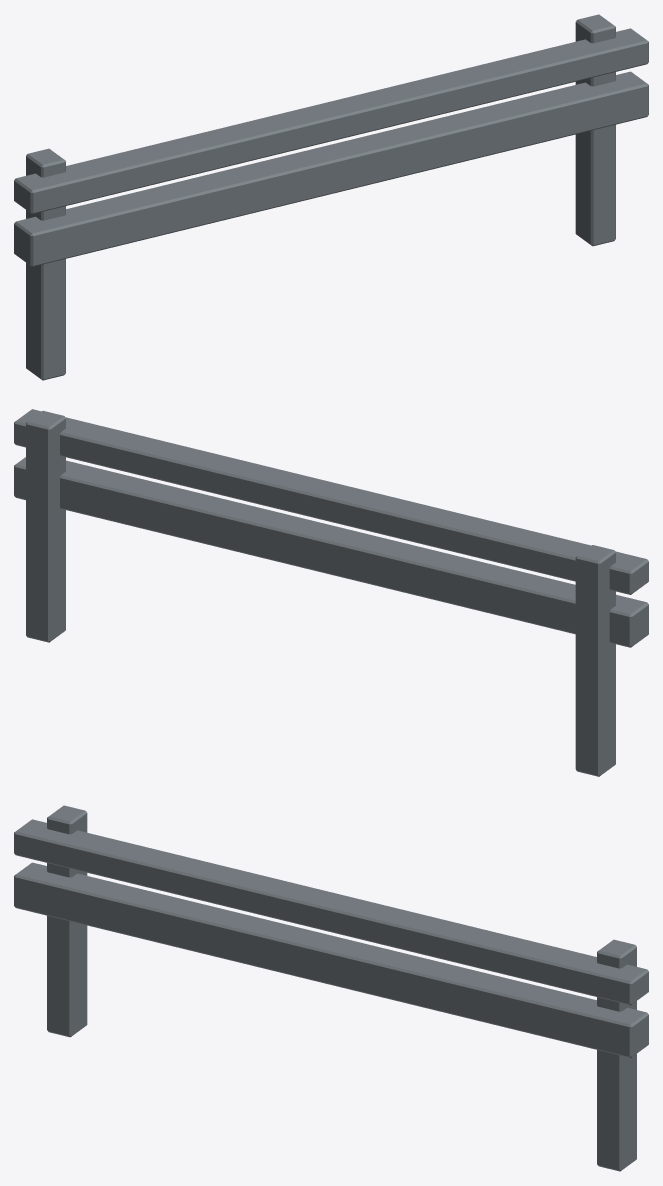
Rendered from RoadGuardrail.fbx.
3 renders of one model, top to bottom at view 1: azimuth 30°, elevation 25°; view 2: azimuth 150°, elevation 25°; view 3: azimuth 330°, elevation 25°, orthographic.
Visible parts, largest first — view 1: RoadGuardrail; view 2: RoadGuardrail; view 3: RoadGuardrail.
Part boxes in pixels (left/top/right/bottom): RoadGuardrail: left=14, top=14, right=648, bottom=380; RoadGuardrail: left=14, top=409, right=648, bottom=776; RoadGuardrail: left=14, top=805, right=648, bottom=1171.
Size of the model in its own units: 270 by 90 by 21.5.
1 material, 1 textured.
